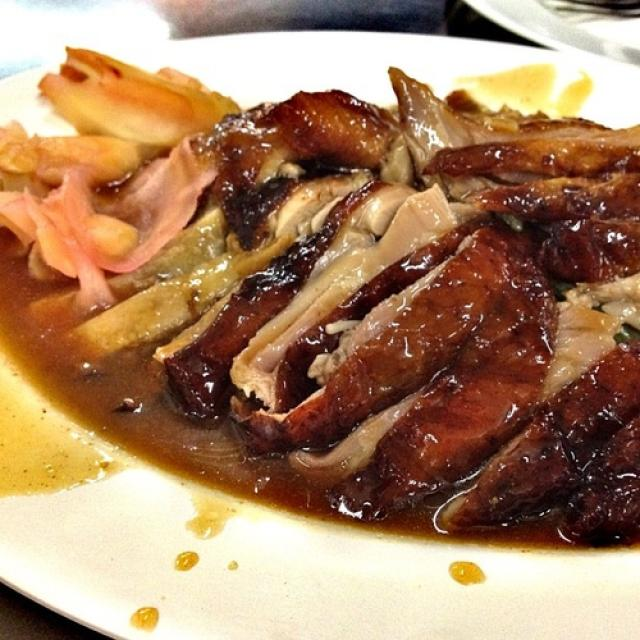烧串烤肉: (19, 21, 616, 596)
